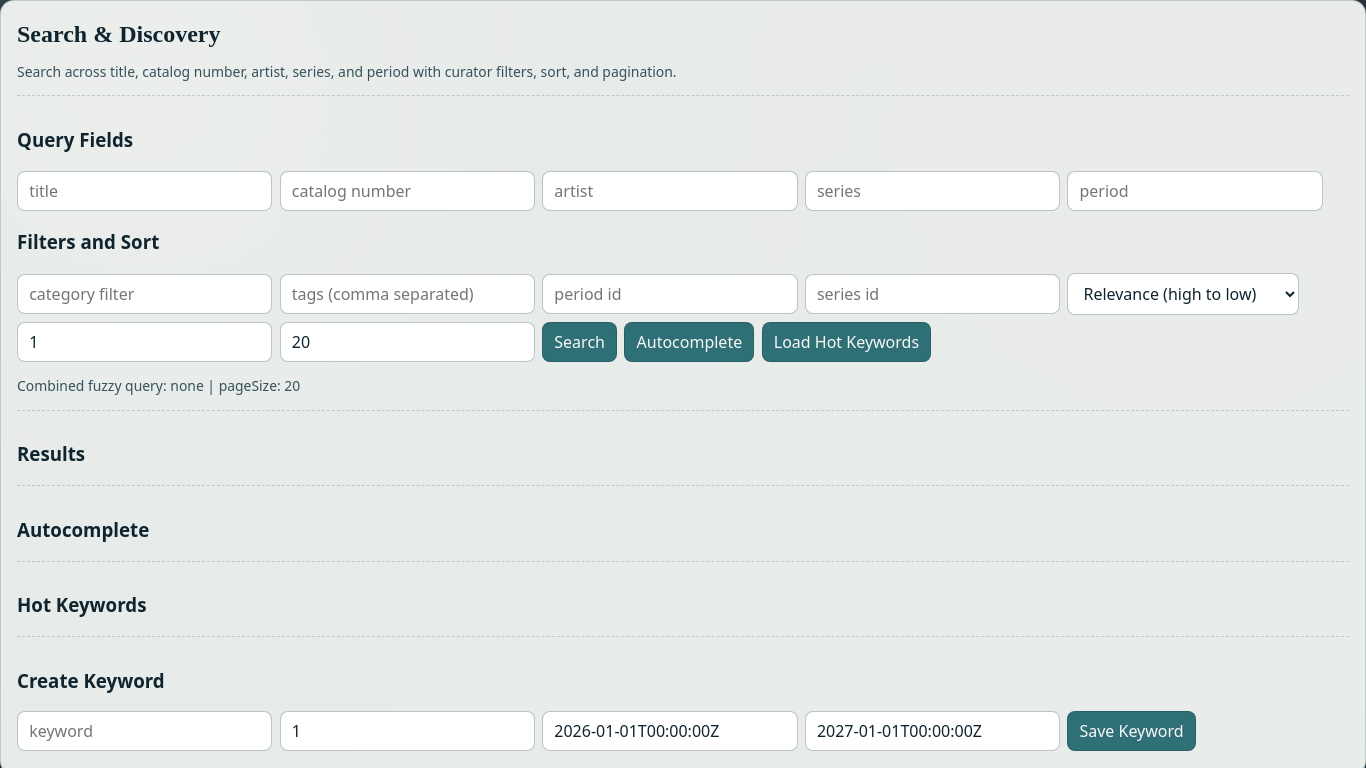
Test: SearchDiscoveryTab › normalizes legacy nested search payloads
Type "Legacy" into the field with placeholder "title" at (145, 191), box [17, 171, 272, 211]
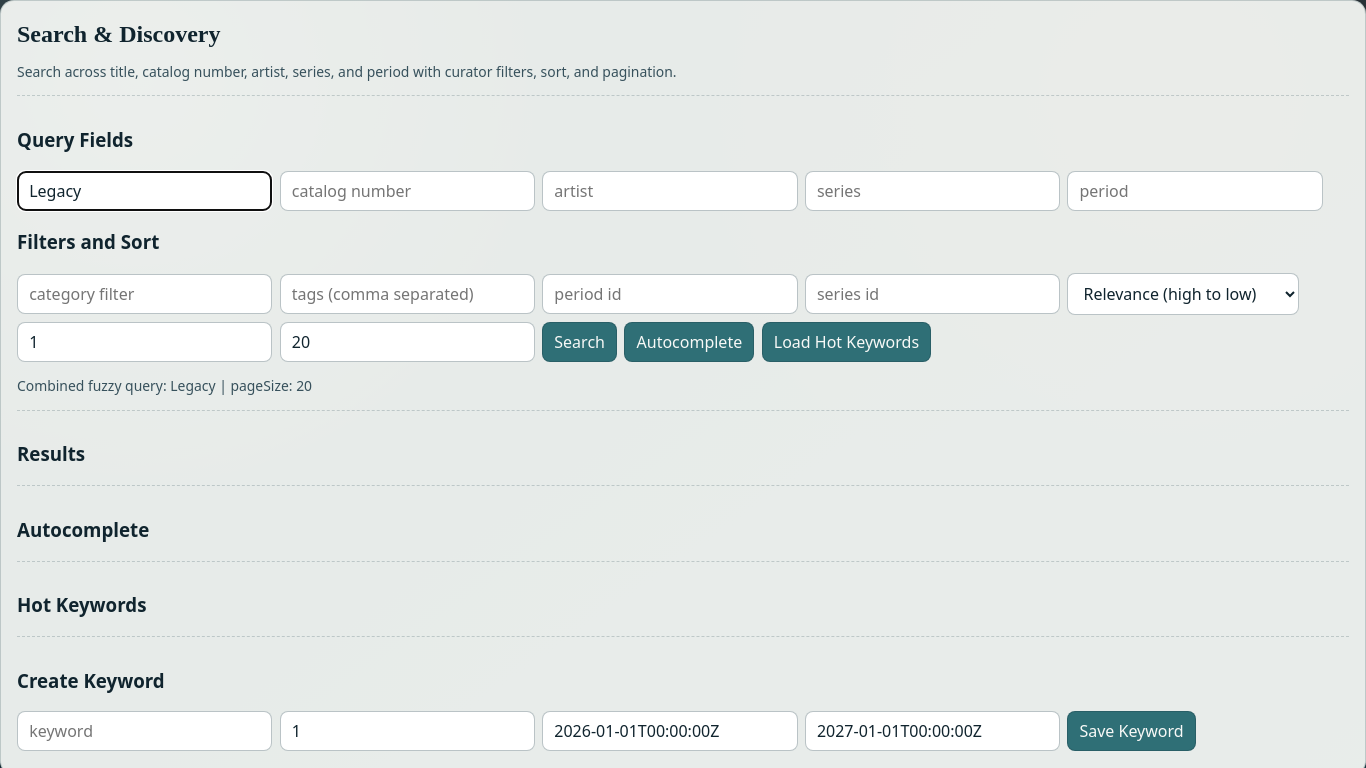
Click the button "Search" at (580, 342), box [542, 322, 617, 362]
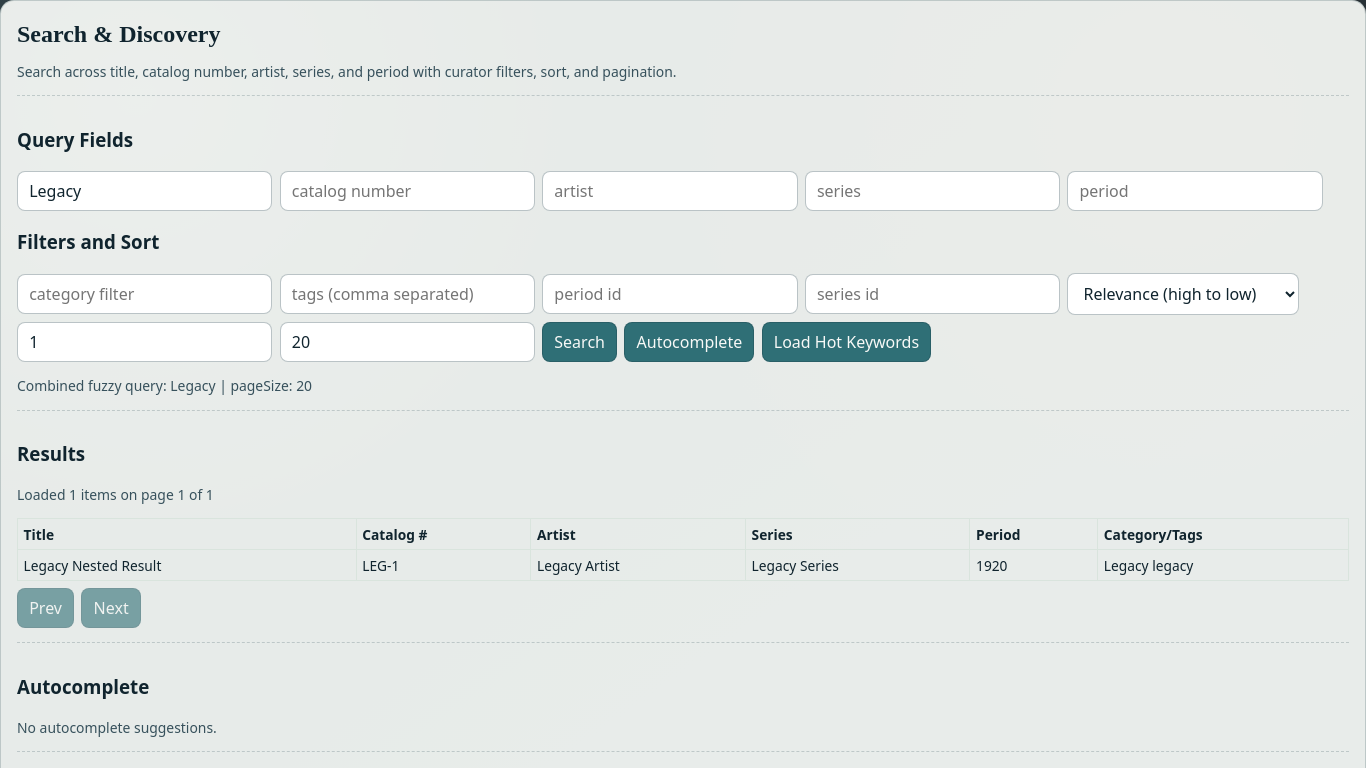
Expected: the text "Legacy Nested Result" is shown, [18, 550, 356, 581]
